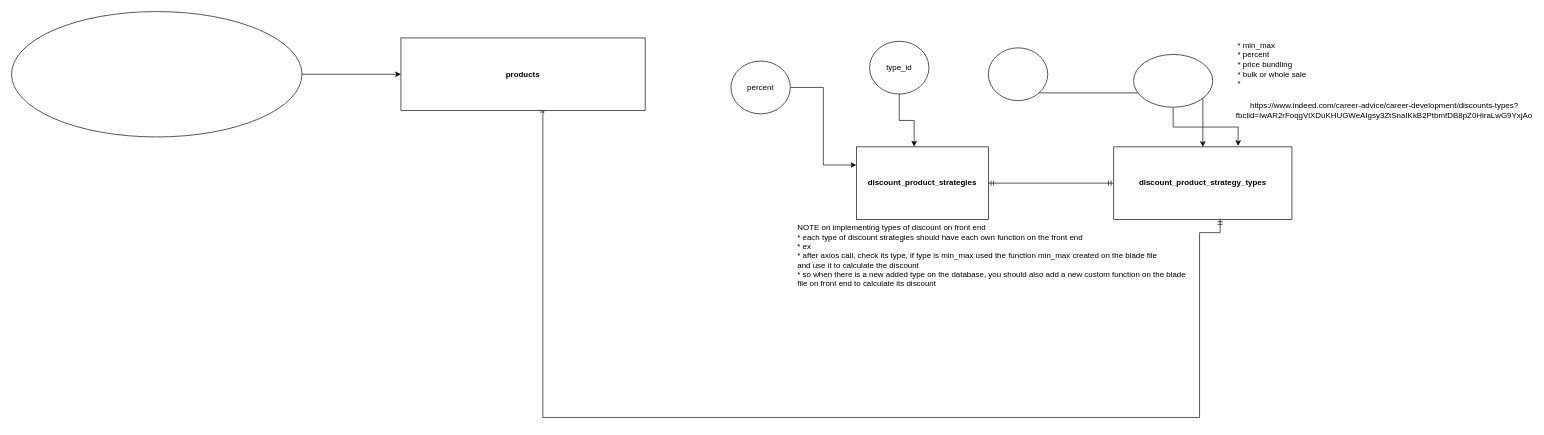
The diagram is 1544 pixels wide and 435 high, and some of its shapes have lost their labels. Each missing label, with the box of its shape:
active_ discount_product_strategy_type_id: (11, 11, 302, 137)
id: (988, 47, 1048, 101)
type: (1133, 54, 1213, 107)
